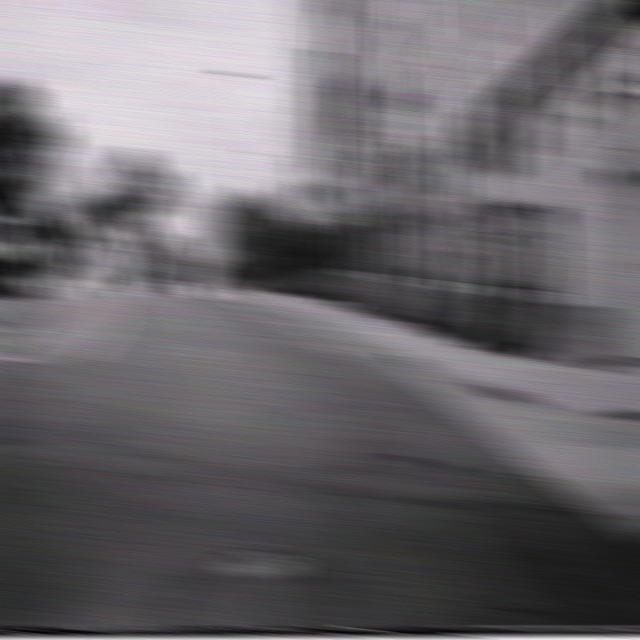stop_sign: (210, 244, 236, 262)
